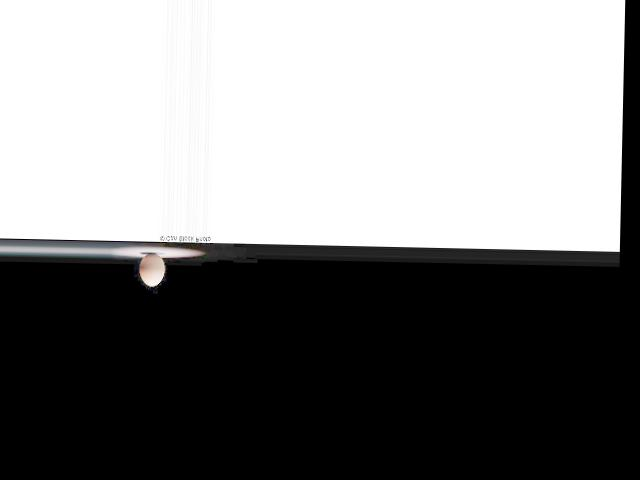egg: (139, 252, 165, 286)
